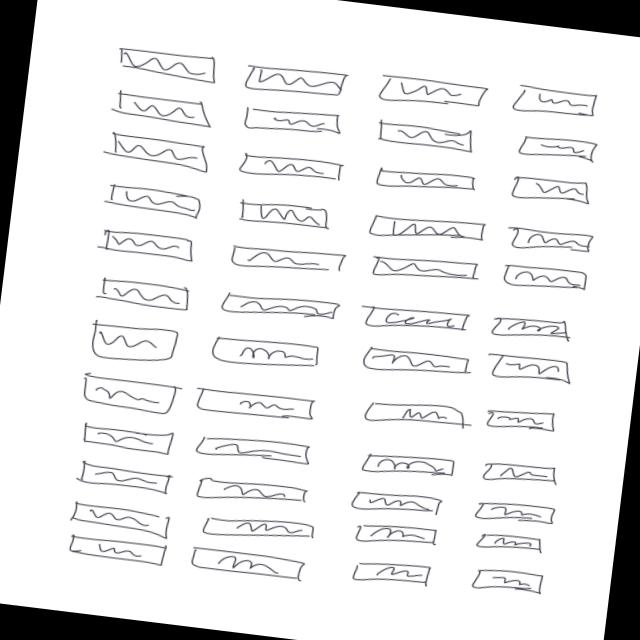Text: (97, 30, 230, 94), (372, 59, 497, 121), (200, 323, 330, 382), (92, 125, 222, 181), (502, 69, 614, 128), (78, 314, 189, 371), (220, 235, 349, 284), (189, 428, 326, 474), (65, 366, 181, 420), (182, 381, 321, 426), (231, 142, 347, 194), (65, 493, 183, 544), (358, 244, 483, 292), (353, 390, 477, 438), (232, 54, 346, 106), (85, 177, 210, 224), (188, 507, 320, 551), (232, 96, 356, 142), (99, 86, 222, 132), (187, 542, 315, 586), (478, 342, 578, 398), (186, 470, 318, 512), (87, 269, 199, 318), (214, 286, 344, 328), (365, 205, 488, 249), (328, 482, 456, 524), (365, 116, 490, 159), (350, 338, 472, 382), (459, 494, 586, 536), (222, 191, 342, 235), (366, 159, 485, 203), (64, 414, 180, 458), (464, 448, 566, 496), (493, 256, 598, 302), (55, 530, 174, 570), (70, 456, 178, 500), (96, 222, 202, 266), (359, 301, 474, 340), (498, 222, 604, 264), (360, 447, 464, 488), (481, 306, 582, 348), (502, 127, 608, 165), (479, 400, 570, 442), (461, 560, 556, 600), (503, 168, 592, 210), (346, 515, 442, 551), (346, 553, 436, 591), (461, 526, 547, 560)
